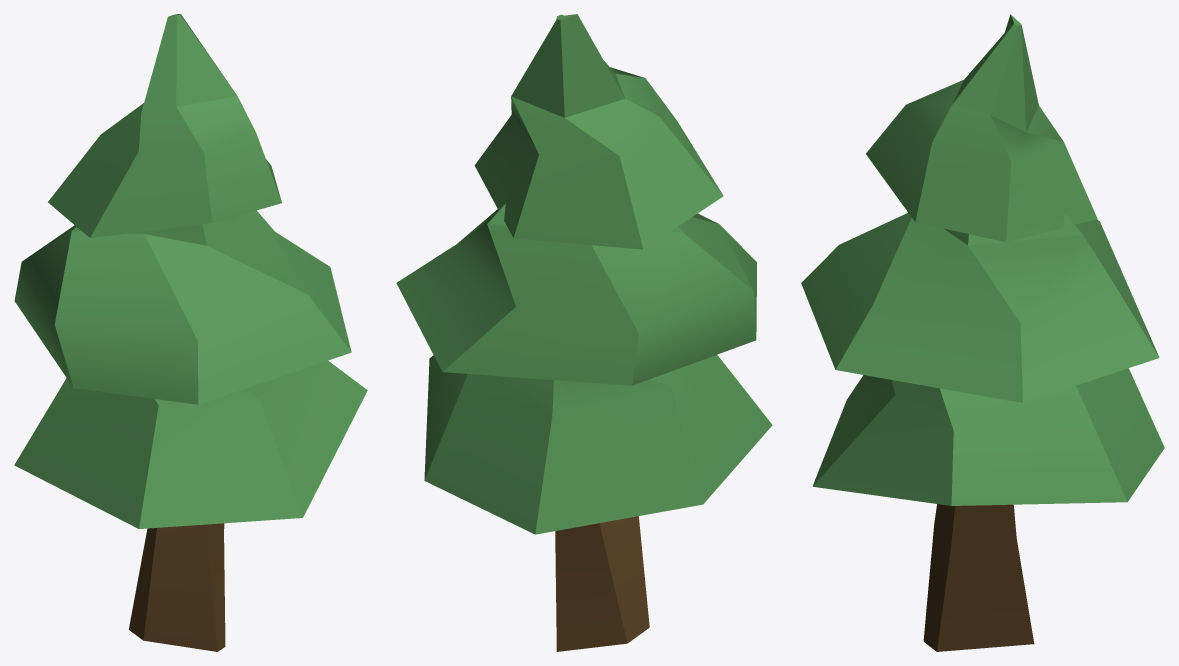
File: ForestTreeOld.fbx
The picture shows the model from 3 angles, left to right: view 1: azimuth 30°, elevation 25°; view 2: azimuth 150°, elevation 25°; view 3: azimuth 270°, elevation 25°; orthographic projection. The views are drawn at different scales.
Parts seen in each view (by area): view 1: pCylinder25, pCylinder22, pCylinder24, pCylinder23; view 2: pCylinder25, pCylinder22, pCylinder24, pCylinder23; view 3: pCylinder25, pCylinder22, pCylinder24, pCylinder23.
Part boxes in pixels (x1,y1,x2,y2): pCylinder25: (14,210,351,404); pCylinder22: (14,361,367,528); pCylinder24: (48,14,281,237); pCylinder23: (128,523,225,651); pCylinder25: (396,203,756,385); pCylinder22: (424,355,772,534); pCylinder24: (474,14,723,249); pCylinder23: (555,516,649,651); pCylinder25: (801,213,1159,402); pCylinder22: (812,368,1164,505); pCylinder24: (866,14,1097,241); pCylinder23: (923,504,1034,651).
Size of the model in its own units: 4.12 by 7.67 by 4.03.
